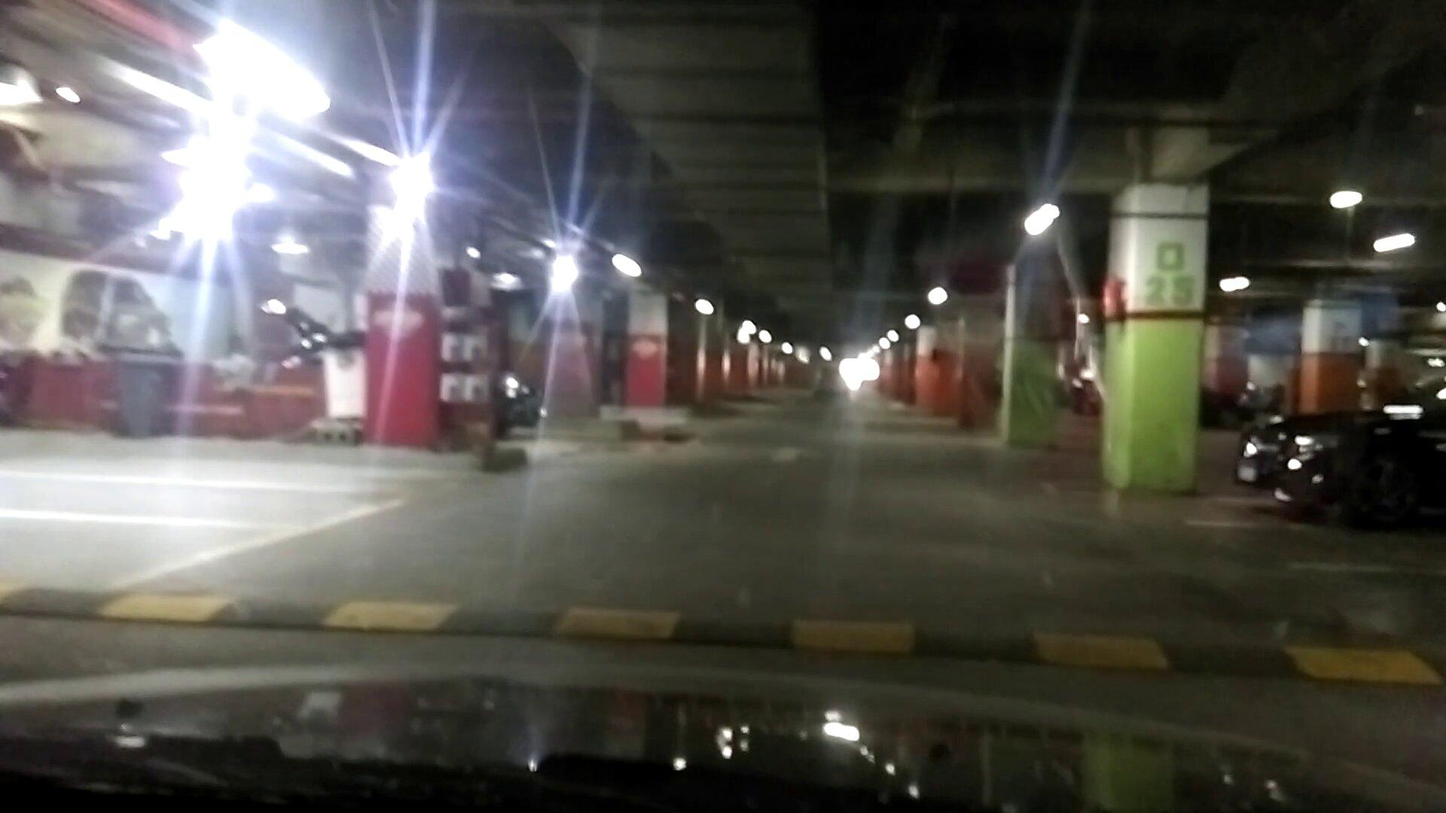Bump: (0, 565, 1446, 706)
